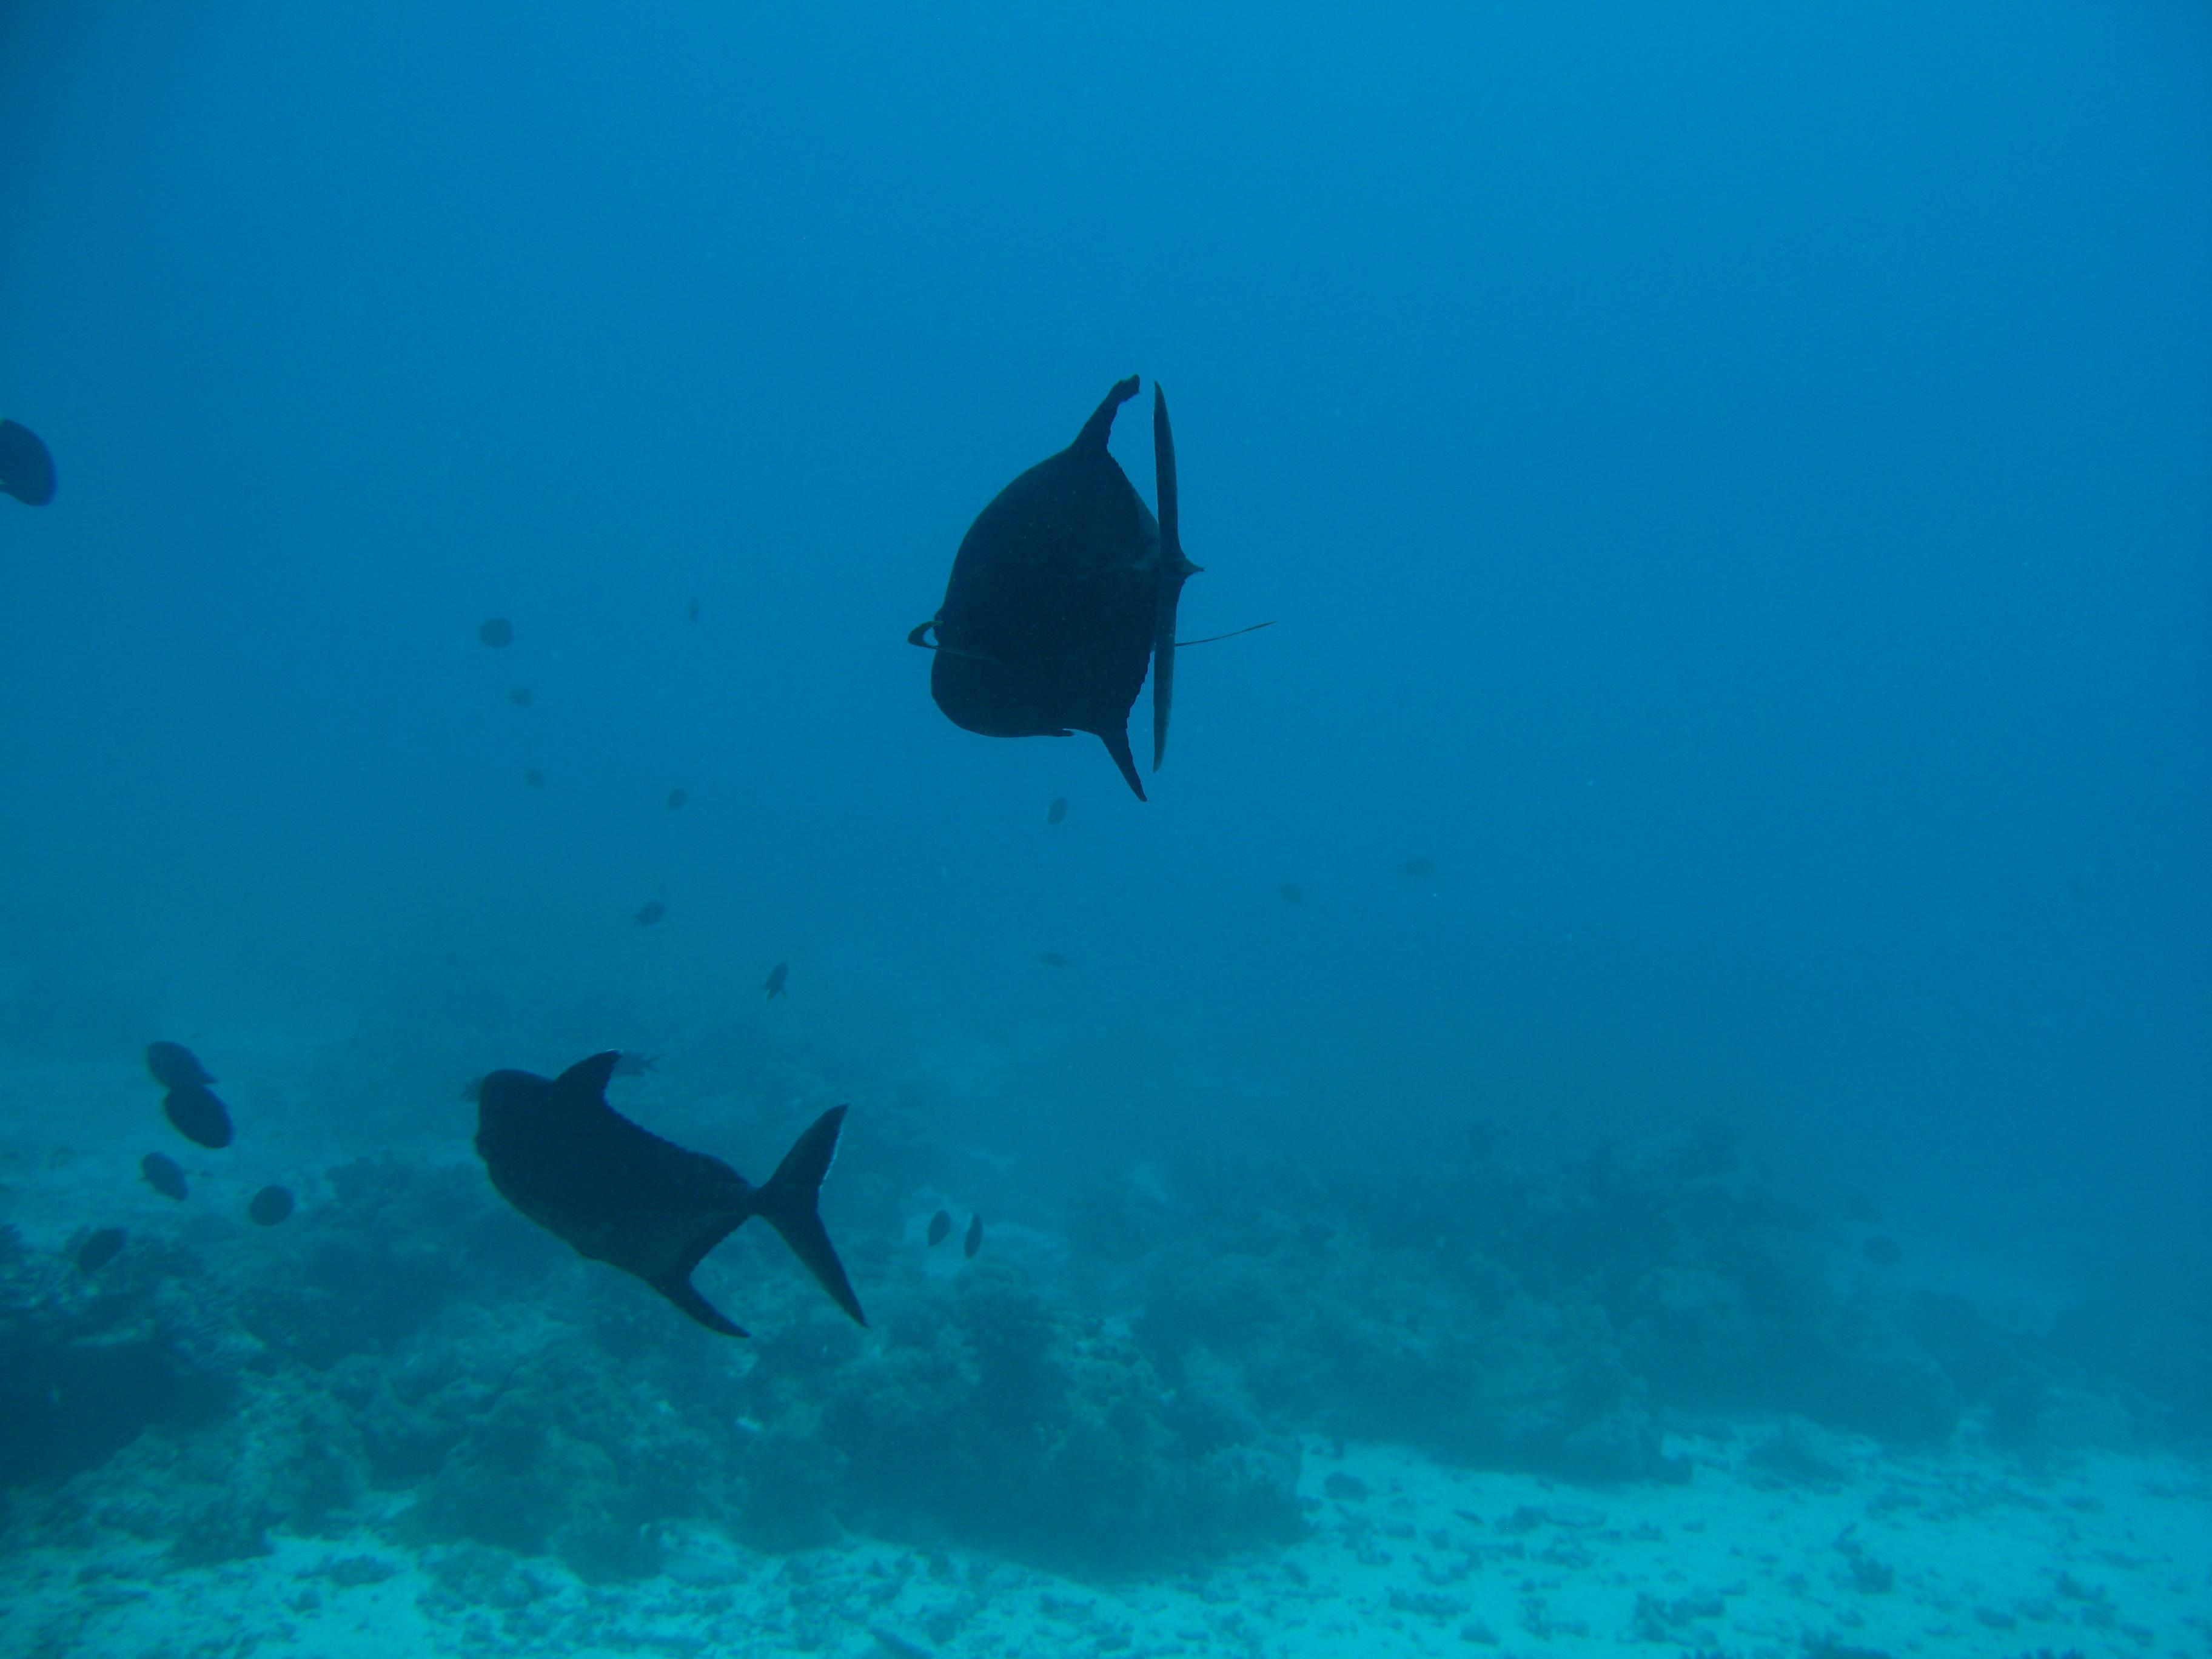Fish: (920, 331, 1233, 821), (458, 1035, 932, 1351)
